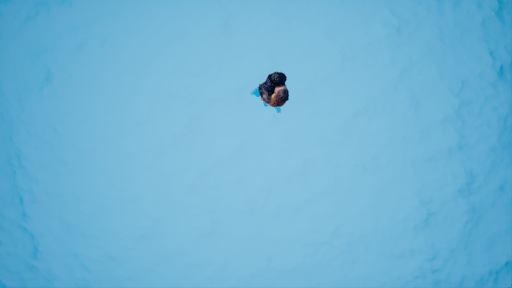person: (249, 71, 295, 114)
